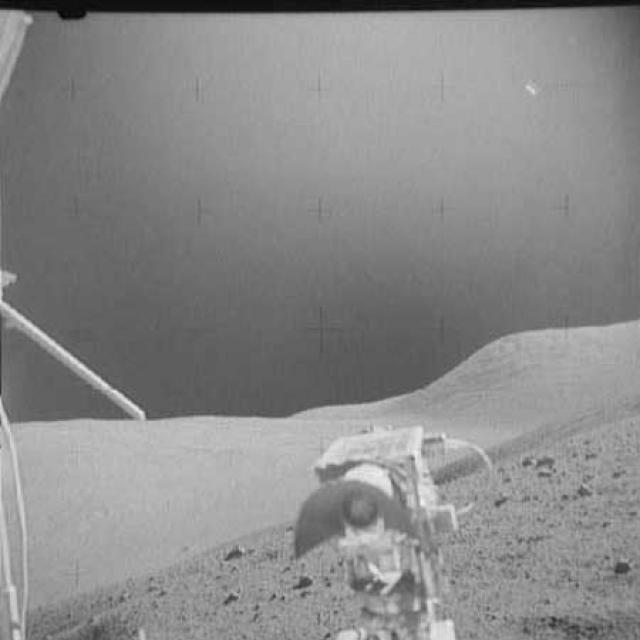artifact: (292, 414, 494, 638), (0, 274, 157, 425), (0, 426, 44, 638), (0, 9, 40, 128)
rock: (524, 448, 556, 468), (220, 544, 249, 562), (614, 556, 636, 570)
